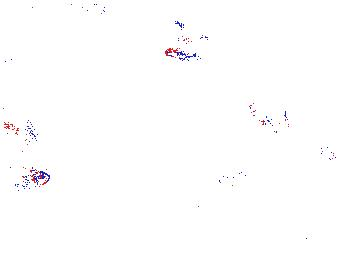X-ray fish: (8, 164, 50, 190), (316, 137, 346, 161), (309, 206, 324, 231)
red belly glassfish: (63, 1, 108, 21), (213, 169, 248, 189), (162, 46, 199, 60)
redtail glassfish: (246, 94, 291, 133), (173, 9, 208, 52), (17, 1, 81, 18)
